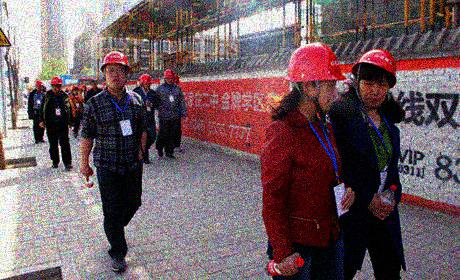helmet: (284, 43, 347, 111), (350, 47, 397, 108), (100, 51, 131, 91), (49, 76, 64, 95), (163, 68, 174, 86), (141, 74, 153, 90), (35, 79, 44, 92), (172, 73, 180, 86), (71, 85, 80, 96), (137, 76, 143, 88), (82, 85, 87, 92)
